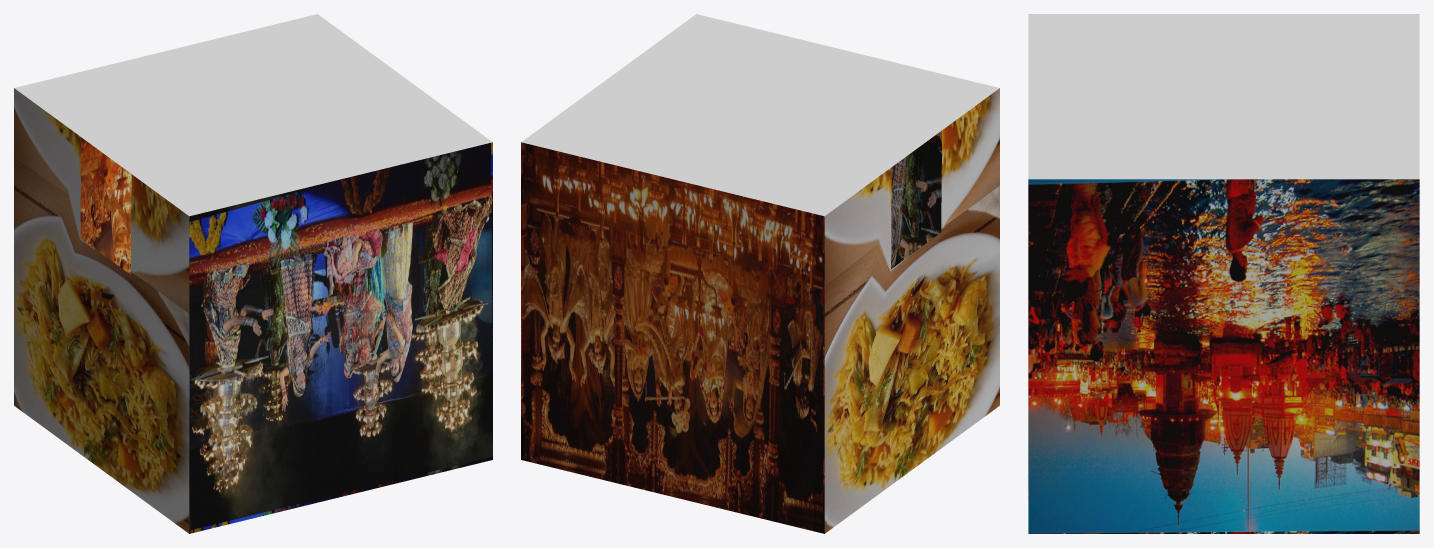
Rendered from UttarPradesh.glb.
The picture shows the model from 3 angles, left to right: view 1: azimuth 30°, elevation 25°; view 2: azimuth 150°, elevation 25°; view 3: azimuth 270°, elevation 25°; orthographic projection. The views are drawn at different scales.
Visible parts, largest first — view 1: Cube.003, Cube, Cube.005, Cube.002; view 2: Cube.002, Cube, Cube.005, Cube.003; view 3: Cube.004, Cube.
Part boxes in pixels (bbox=[...]): Cube.003: bbox=[189, 142, 492, 533]; Cube: bbox=[14, 14, 492, 216]; Cube.005: bbox=[14, 88, 189, 533]; Cube.002: bbox=[80, 137, 131, 274]; Cube.002: bbox=[521, 142, 824, 533]; Cube: bbox=[521, 14, 999, 216]; Cube.005: bbox=[824, 88, 999, 533]; Cube.003: bbox=[891, 130, 941, 269]; Cube.004: bbox=[1028, 179, 1419, 533]; Cube: bbox=[1028, 14, 1419, 179].
Size of the model in its own units: 94.76 by 94.76 by 94.76.
Materials: 5 (4 with a texture image).
